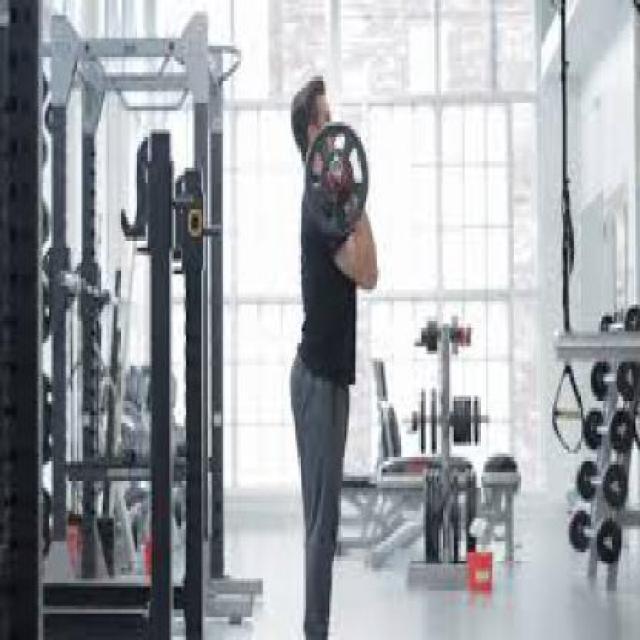barbell: (299, 114, 378, 248)
